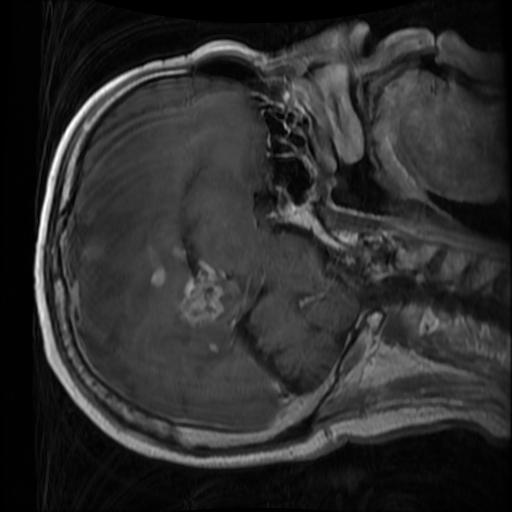glioma: (142, 235, 227, 325)
